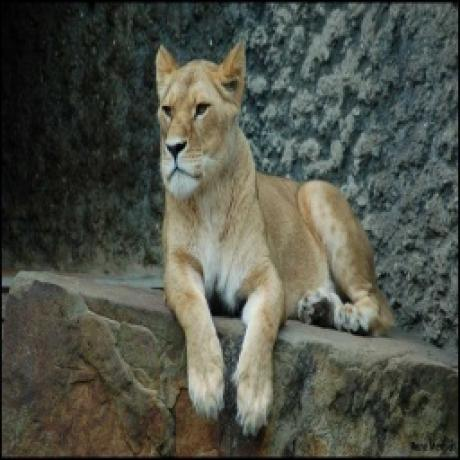Lion: (154, 36, 396, 435)
